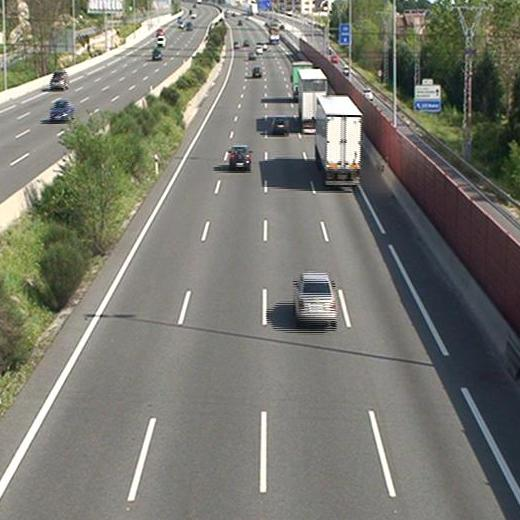car: (294, 272, 336, 324), (229, 145, 251, 169), (270, 117, 289, 135), (252, 65, 263, 77), (247, 52, 257, 61)
truck: (315, 95, 361, 185), (297, 67, 327, 133)
